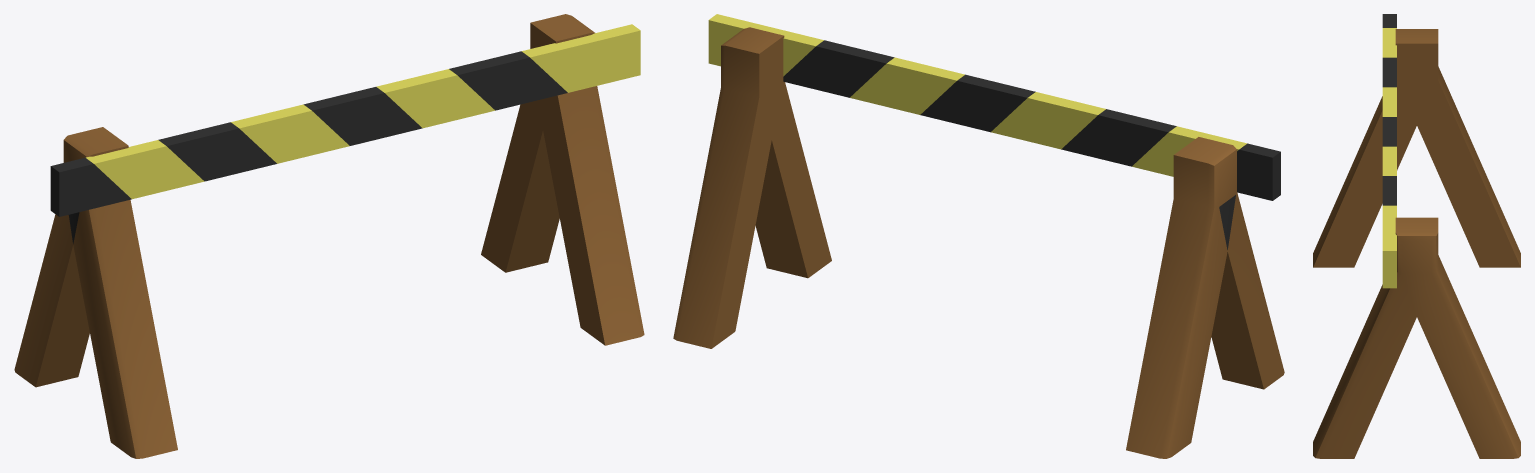
Rendered from Blocker_1.fbx.
The picture shows the model from 3 angles, left to right: view 1: azimuth 30°, elevation 25°; view 2: azimuth 150°, elevation 25°; view 3: azimuth 270°, elevation 25°; orthographic projection. The views are drawn at different scales.
Visible parts, largest first — view 1: Blocker_1; view 2: Blocker_1; view 3: Blocker_1.
Part boxes in pixels (left/top/right/bottom): Blocker_1: left=14, top=14, right=644, bottom=458; Blocker_1: left=673, top=14, right=1284, bottom=458; Blocker_1: left=1313, top=14, right=1520, bottom=458.
Bounding box in the file's own units: 1361 × 600 × 504.
